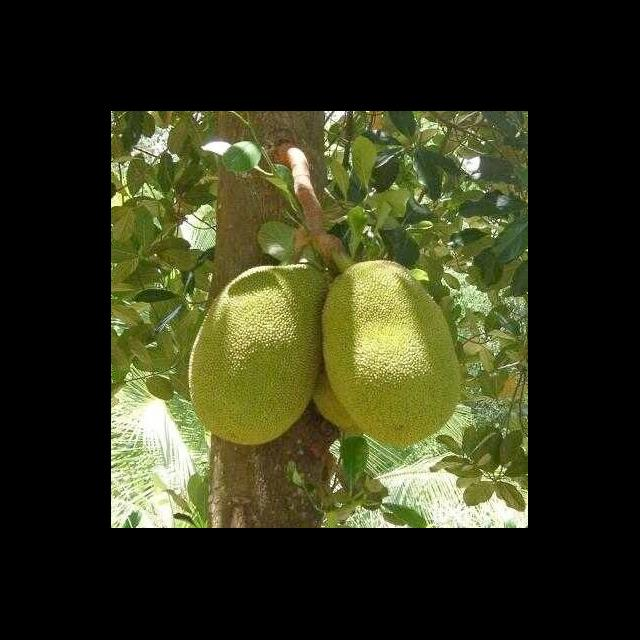mit: (319, 260, 462, 444), (184, 256, 320, 444)
